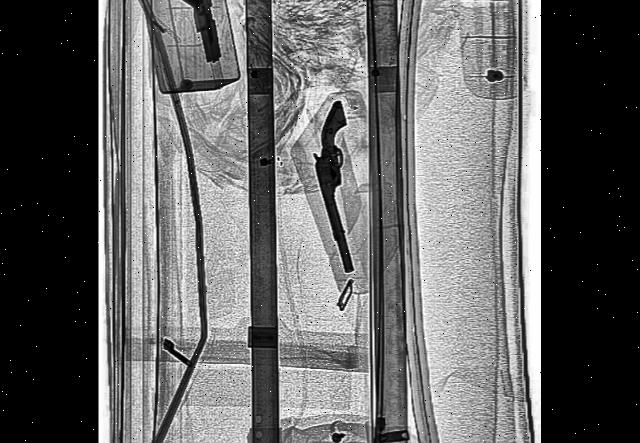Gun: (304, 93, 381, 280), (170, 0, 229, 75)
